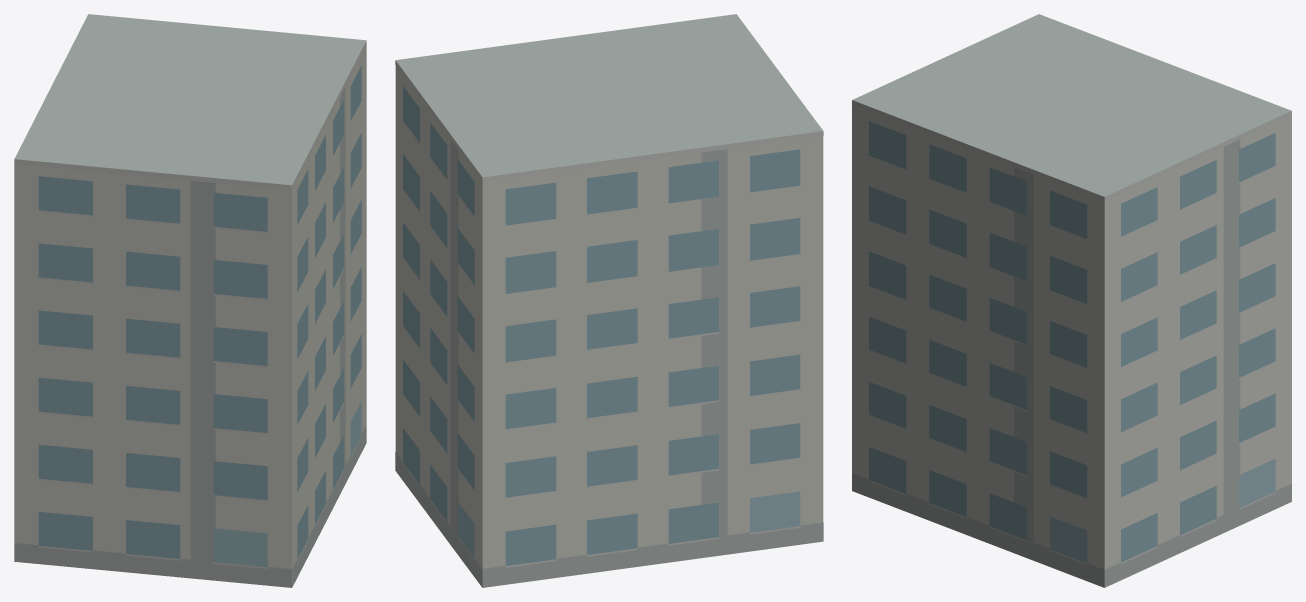
File: survey-upis-32852513.glb
The picture shows the model from 3 angles, left to right: view 1: azimuth 30°, elevation 25°; view 2: azimuth 150°, elevation 25°; view 3: azimuth 270°, elevation 25°; orthographic projection. The views are drawn at different scales.
Visible parts, largest first — view 1: survey-upis-32852513.tmp; view 2: survey-upis-32852513.tmp; view 3: survey-upis-32852513.tmp.
Boxes of the visible parts, x1,y1,x2,y2 form: survey-upis-32852513.tmp: (14,14,366,587); survey-upis-32852513.tmp: (395,14,823,587); survey-upis-32852513.tmp: (852,14,1291,587).
Size of the model in its own units: 19.83 by 19.76 by 20.15.
